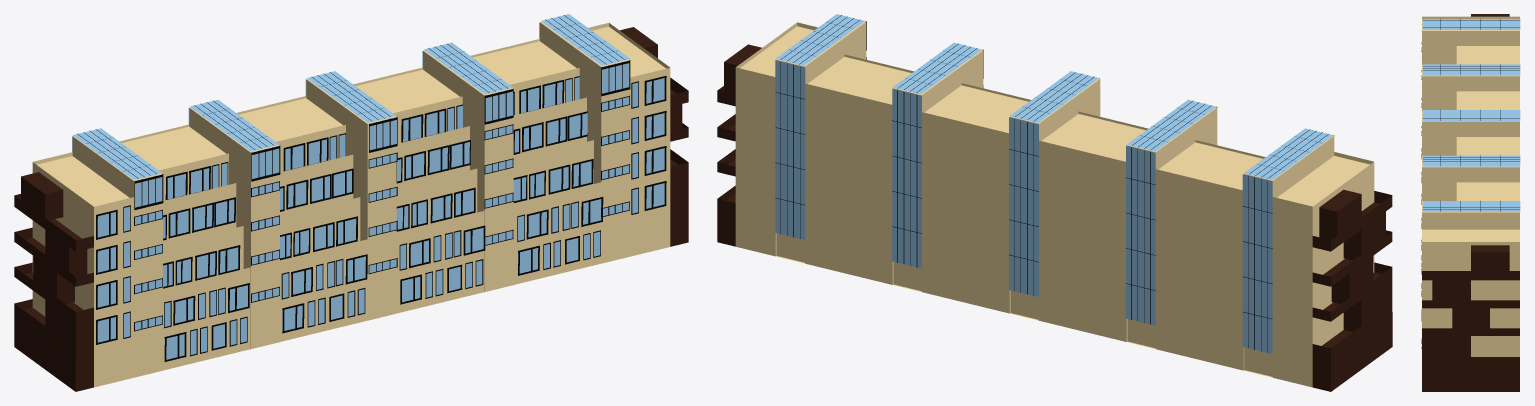
3 views of the same model, side by side, from view 1: azimuth 30°, elevation 25°; view 2: azimuth 150°, elevation 25°; view 3: azimuth 270°, elevation 25° (orthographic). The views are drawn at different scales.
Parts seen in each view (by area): view 1: Плоскость.001, Плоскость.012, Плоскость.007, Плоскость.024, Плоскость.017, Плоскость.023, Плоскость.002, Плоскость.021, Плоскость.016, Плоскость.006, Плоскость.011, Плоскость.018 (+48 smaller); view 2: Плоскость.003, Плоскость.018, Плоскость.008, Плоскость.013, Плоскость.001, Плоскость.023, Door 2.005, Door 2.002, Door 2.004, Door 2.003, Door 2.011, Плоскость (+16 smaller); view 3: Плоскость.023, Плоскость.022, Плоскость.007, Плоскость.017, Плоскость.002, Плоскость.012, Плоскость.038, Плоскость.024, Плоскость.035, Плоскость.037, Плоскость.036, Плоскость.008 (+10 smaller).
Boxes of the visible parts, x1,y1,x2,y2 form: Плоскость.001: (32, 152, 133, 387); Плоскость.012: (306, 79, 396, 320); Плоскость.007: (189, 107, 279, 348); Плоскость.024: (540, 22, 630, 263); Плоскость.017: (423, 50, 513, 292); Плоскость.023: (588, 23, 670, 256); Плоскость.002: (72, 136, 162, 377); Плоскость.021: (513, 182, 601, 284); Плоскость.016: (396, 211, 484, 313); Плоскость.006: (163, 267, 250, 370); Плоскость.011: (280, 239, 367, 341); Плоскость.018: (470, 39, 579, 114); Плоскость.003: (1155, 140, 1265, 370); Плоскость.018: (805, 54, 913, 284); Плоскость.008: (1038, 111, 1148, 341); Плоскость.013: (921, 83, 1030, 313); Плоскость.001: (1272, 152, 1374, 387); Плоскость.023: (735, 22, 817, 256); Door 2.005: (1242, 174, 1272, 353); Door 2.002: (775, 60, 805, 239); Door 2.004: (1125, 146, 1155, 325); Door 2.003: (1009, 117, 1038, 296); Door 2.011: (892, 89, 921, 268); Плоскость: (1312, 312, 1392, 391); Плоскость.023: (1422, 229, 1519, 356); Плоскость.022: (1422, 357, 1519, 391); Плоскость.007: (1422, 65, 1519, 110); Плоскость.017: (1422, 156, 1519, 201); Плоскость.002: (1422, 19, 1519, 64); Плоскость.012: (1422, 110, 1519, 155); Плоскость.038: (1422, 245, 1519, 280); Плоскость.024: (1422, 201, 1519, 229); Плоскость.035: (1422, 336, 1519, 363); Плоскость.037: (1422, 280, 1519, 308); Плоскость.036: (1422, 308, 1519, 335); Плоскость.008: (1456, 91, 1519, 109).
Bounding box in the file's own units: 82.08 × 25.3 × 14.46.
